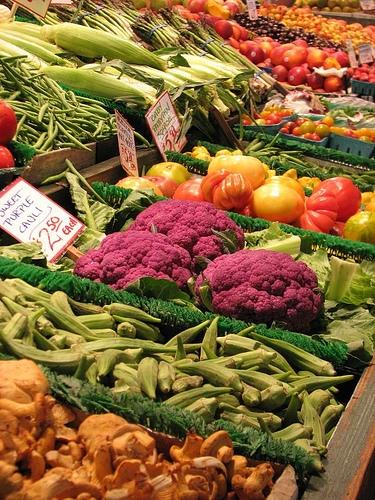asparagus: (66, 39, 224, 294), (188, 19, 266, 89), (201, 28, 272, 90), (85, 0, 144, 48), (215, 41, 277, 83), (83, 0, 136, 42), (104, 8, 154, 51), (55, 4, 115, 34), (178, 28, 229, 62), (80, 10, 127, 37), (55, 8, 106, 32), (92, 1, 138, 23), (138, 18, 174, 46), (222, 46, 258, 72), (88, 14, 123, 37), (134, 23, 166, 48), (210, 34, 244, 57), (152, 14, 180, 40), (130, 29, 164, 49), (158, 7, 182, 32), (136, 34, 160, 52), (166, 8, 184, 27), (178, 39, 197, 56), (185, 42, 204, 58), (206, 26, 224, 42), (118, 4, 137, 19), (174, 40, 191, 55), (120, 0, 139, 12), (46, 11, 64, 23), (123, 5, 140, 17), (116, 13, 134, 24), (130, 24, 152, 33), (39, 17, 56, 26), (56, 14, 70, 22), (166, 26, 180, 34), (82, 18, 90, 28), (98, 16, 110, 22)
cauliflower: (195, 249, 325, 331), (73, 230, 193, 293), (126, 199, 246, 258)
corn: (27, 57, 164, 112), (40, 22, 168, 72), (165, 67, 219, 111), (0, 27, 70, 56), (180, 62, 235, 90), (127, 64, 184, 91), (0, 38, 50, 68), (1, 23, 54, 44), (210, 98, 230, 119), (224, 89, 244, 106), (10, 21, 42, 31)
green bean: (64, 158, 109, 206), (42, 118, 92, 152), (0, 57, 49, 90), (41, 74, 74, 116), (104, 128, 152, 151), (57, 117, 100, 142), (52, 111, 81, 142), (2, 64, 26, 98), (25, 101, 79, 114), (41, 162, 72, 184), (3, 100, 40, 114), (39, 124, 58, 151), (11, 107, 38, 124), (12, 114, 26, 142), (66, 118, 98, 130), (48, 77, 69, 94), (80, 107, 110, 118), (46, 112, 54, 152), (22, 123, 42, 137), (21, 84, 39, 96), (1, 54, 28, 62), (84, 103, 108, 112), (38, 103, 48, 124), (20, 63, 32, 78), (26, 73, 46, 81), (26, 94, 38, 107), (7, 104, 26, 112), (17, 136, 32, 146), (24, 134, 39, 143), (67, 90, 77, 102), (49, 101, 63, 109), (80, 103, 96, 109), (10, 66, 21, 74), (24, 110, 38, 116), (74, 114, 94, 118), (0, 90, 11, 97), (40, 96, 46, 107), (71, 128, 80, 134), (104, 124, 111, 130), (21, 71, 28, 77), (47, 98, 50, 104), (74, 116, 80, 118)
mushroom: (76, 412, 130, 454), (0, 359, 50, 402), (231, 462, 275, 500), (101, 458, 142, 494), (0, 393, 46, 423), (86, 446, 114, 488), (170, 430, 204, 464), (199, 430, 234, 463), (19, 407, 54, 439), (124, 430, 156, 460), (5, 426, 36, 456), (193, 456, 228, 481), (20, 449, 46, 482), (0, 380, 32, 404), (107, 424, 146, 442), (35, 426, 56, 458), (174, 473, 198, 500), (1, 408, 20, 440), (224, 455, 248, 480), (0, 472, 24, 497), (144, 448, 164, 477), (70, 481, 102, 498), (45, 450, 73, 469), (58, 442, 82, 464), (210, 473, 227, 500), (53, 424, 78, 442), (68, 466, 92, 484), (146, 475, 172, 491), (2, 463, 17, 486), (4, 489, 26, 500), (162, 460, 180, 473)
peach: (288, 66, 310, 86), (214, 19, 234, 39), (244, 44, 264, 64), (307, 48, 326, 69), (282, 50, 302, 69), (270, 47, 288, 66), (324, 75, 344, 92), (330, 52, 350, 68), (306, 73, 324, 90), (271, 64, 288, 81), (229, 20, 242, 42), (291, 46, 308, 62), (322, 57, 342, 70), (259, 42, 274, 59), (206, 16, 222, 27), (181, 8, 191, 19), (322, 48, 336, 55), (280, 44, 296, 50), (270, 41, 282, 48), (196, 12, 205, 16)
tomato: (311, 177, 362, 222), (252, 183, 304, 224), (208, 155, 266, 191), (294, 189, 339, 234), (212, 173, 253, 214), (201, 168, 232, 204), (145, 161, 191, 184), (114, 176, 163, 196), (141, 175, 180, 199), (172, 179, 210, 203), (0, 100, 17, 148), (0, 145, 15, 168), (328, 222, 346, 239), (315, 124, 330, 140), (300, 121, 316, 134), (265, 115, 283, 124), (304, 133, 322, 141), (284, 122, 296, 134), (358, 128, 372, 138), (242, 112, 253, 124), (250, 118, 266, 126), (322, 116, 334, 126), (330, 126, 344, 134), (358, 136, 372, 143), (260, 110, 270, 119), (281, 109, 292, 117), (295, 118, 306, 126), (343, 131, 354, 137), (271, 110, 280, 117), (242, 120, 251, 126), (280, 128, 289, 134), (265, 120, 275, 125), (303, 118, 313, 122), (370, 136, 375, 140)
